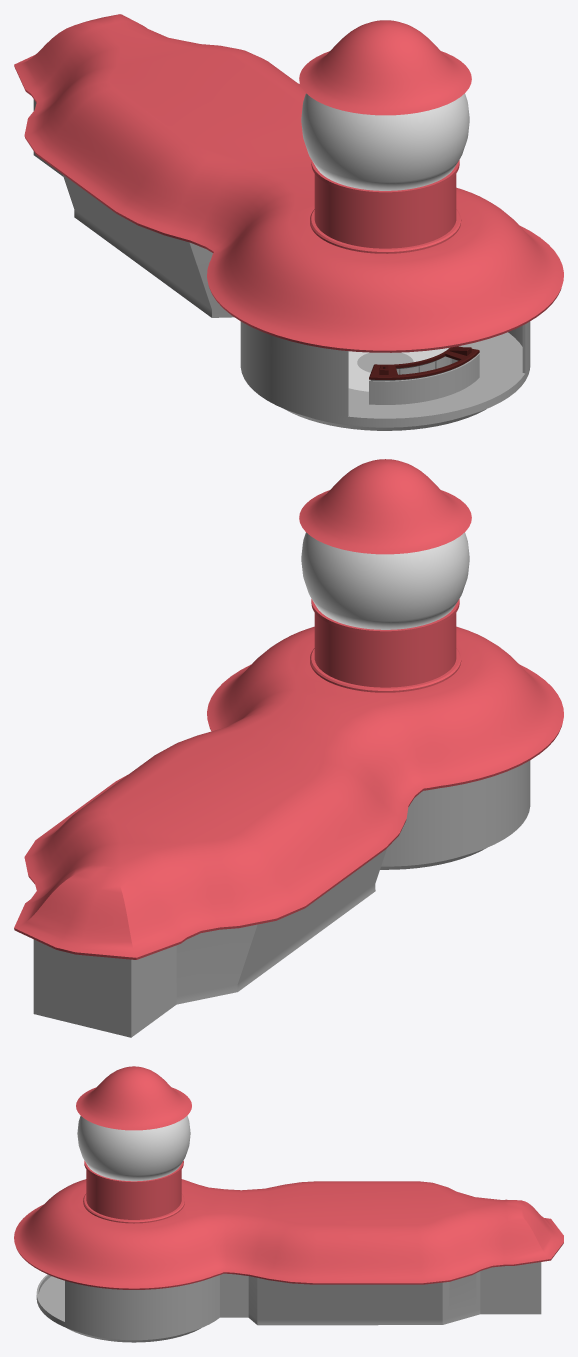
The model's file is Spaceship_v3.gltf.
3 renders of one model, top to bottom at view 1: azimuth 30°, elevation 25°; view 2: azimuth 150°, elevation 25°; view 3: azimuth 270°, elevation 25°, orthographic. The views are drawn at different scales.
Parts seen in each view (by area): view 1: Roof, OuterWalls, NestSphere, RoofNest, CrowsNestTunnel, WorkshopWalls, ControlPanel, CockpitBottomWindow, ChairBase; view 2: Roof, WorkshopWalls, NestSphere, RoofNest, OuterWalls, CrowsNestTunnel; view 3: Roof, WorkshopWalls, OuterWalls, NestSphere, RoofNest, CrowsNestTunnel.
Part boxes in pixels (x1,y1,x2,y2): Roof: [14, 14, 563, 352]; OuterWalls: [240, 321, 530, 430]; NestSphere: [301, 93, 469, 190]; RoofNest: [299, 20, 471, 115]; CrowsNestTunnel: [310, 160, 461, 253]; WorkshopWalls: [33, 99, 233, 317]; ControlPanel: [369, 346, 479, 404]; CockpitBottomWindow: [348, 348, 447, 391]; ChairBase: [357, 352, 413, 372]; Roof: [14, 626, 563, 959]; WorkshopWalls: [33, 848, 386, 1037]; NestSphere: [301, 532, 469, 629]; RoofNest: [299, 459, 471, 554]; OuterWalls: [380, 760, 530, 869]; CrowsNestTunnel: [310, 599, 461, 692]; Roof: [14, 1179, 563, 1289]; WorkshopWalls: [245, 1262, 541, 1325]; OuterWalls: [36, 1273, 245, 1342]; NestSphere: [77, 1115, 190, 1181]; RoofNest: [76, 1066, 191, 1130]; CrowsNestTunnel: [83, 1160, 184, 1223].
Bounding box in the file's own units: 12.57 × 14.69 × 28.8.
